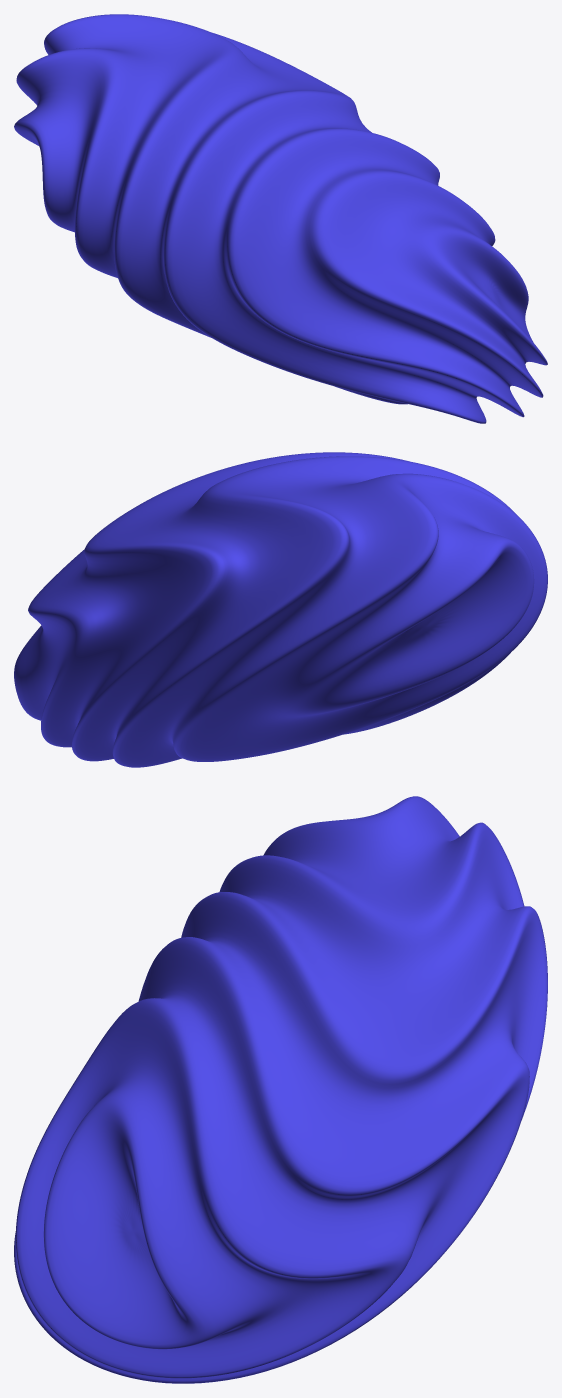
The model's file is abstract.glb.
3 views of the same model, one above another, from view 1: azimuth 30°, elevation 25°; view 2: azimuth 150°, elevation 25°; view 3: azimuth 270°, elevation 25° (orthographic). The views are drawn at different scales.
Visible parts, largest first — view 1: Sphere.006; view 2: Sphere.006; view 3: Sphere.006.
Boxes of the visible parts, x1=… form: Sphere.006: x1=14, y1=14, x2=547, y2=423; Sphere.006: x1=14, y1=452, x2=547, y2=767; Sphere.006: x1=14, y1=796, x2=547, y2=1383.
Size of what is drawn, in the model's own units: 2.01 by 1.58 by 1.9.
